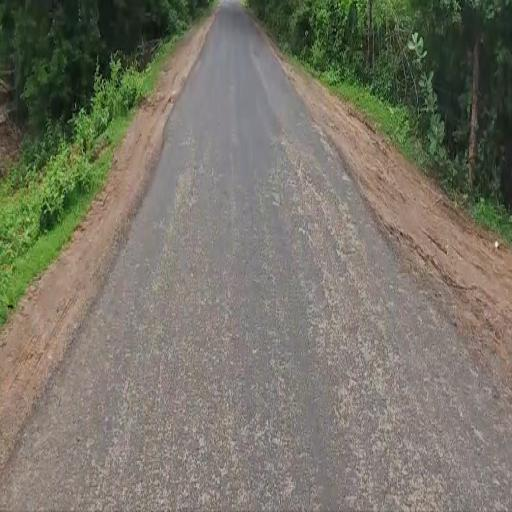ravelling: (4, 112, 190, 494)
